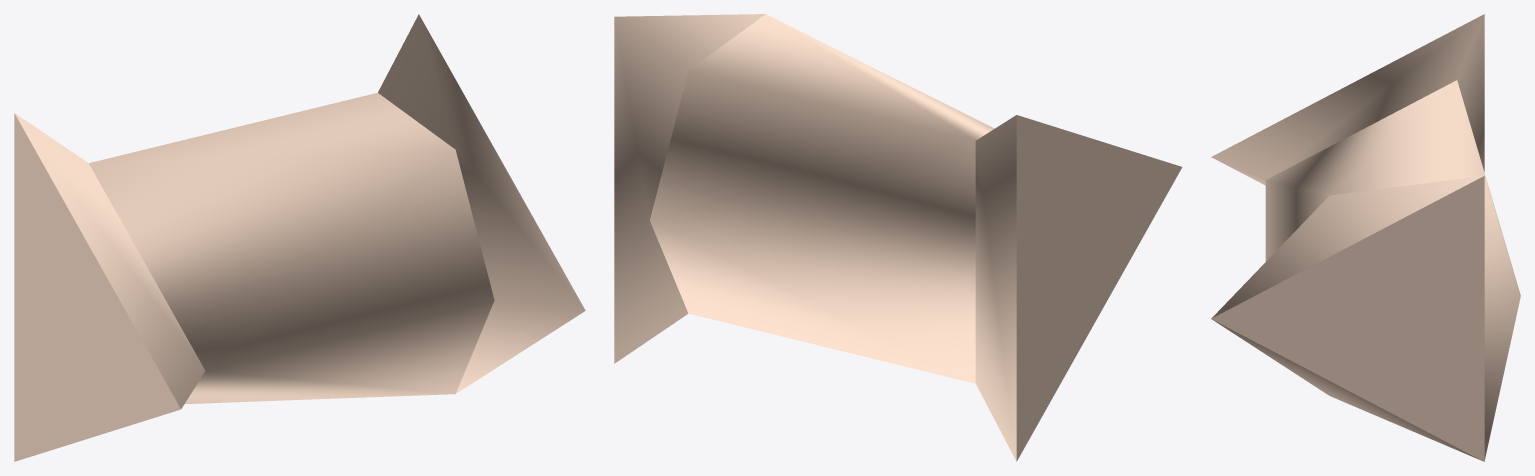
The model's file is Goupille roue_Suspension.obj.
The picture shows the model from 3 angles, left to right: view 1: azimuth 30°, elevation 25°; view 2: azimuth 150°, elevation 25°; view 3: azimuth 270°, elevation 25°; orthographic projection. The views are drawn at different scales.
Visible parts, largest first — view 1: Face_1, Face_3, Face_4, Face_2; view 2: Face_1, Face_3, Face_4, Face_2; view 3: Face_5, Face_4, Face_1, Face_2.
Part boxes in pixels (box(x1,y1,x2,y2)): Face_1: box(89, 92, 494, 403); Face_3: box(14, 113, 180, 461); Face_4: box(378, 14, 585, 393); Face_2: box(14, 113, 205, 408); Face_1: box(650, 14, 994, 383); Face_3: box(1016, 115, 1182, 461); Face_4: box(614, 14, 765, 363); Face_2: box(975, 115, 1016, 461); Face_5: box(1211, 176, 1484, 461); Face_4: box(1211, 176, 1520, 460); Face_1: box(1265, 80, 1515, 278); Face_2: box(1211, 14, 1484, 185).
Size of the model in its own units: 0.00105 by 0.000866 by 0.00085.
